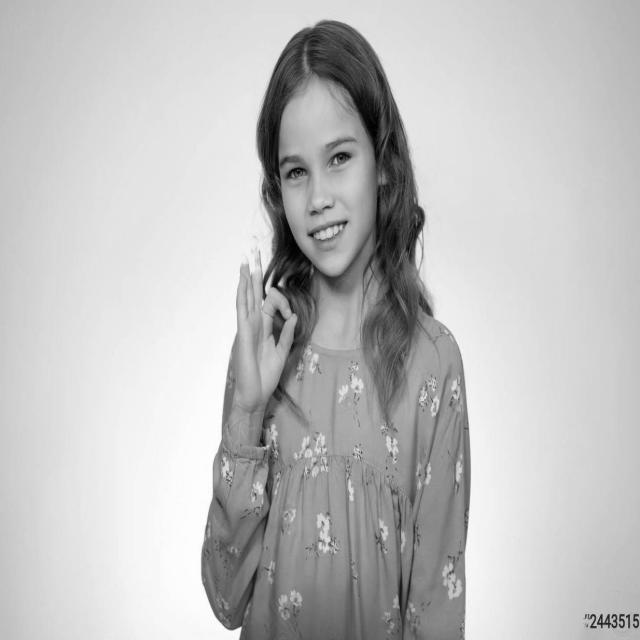perfect: (230, 237, 302, 436)
